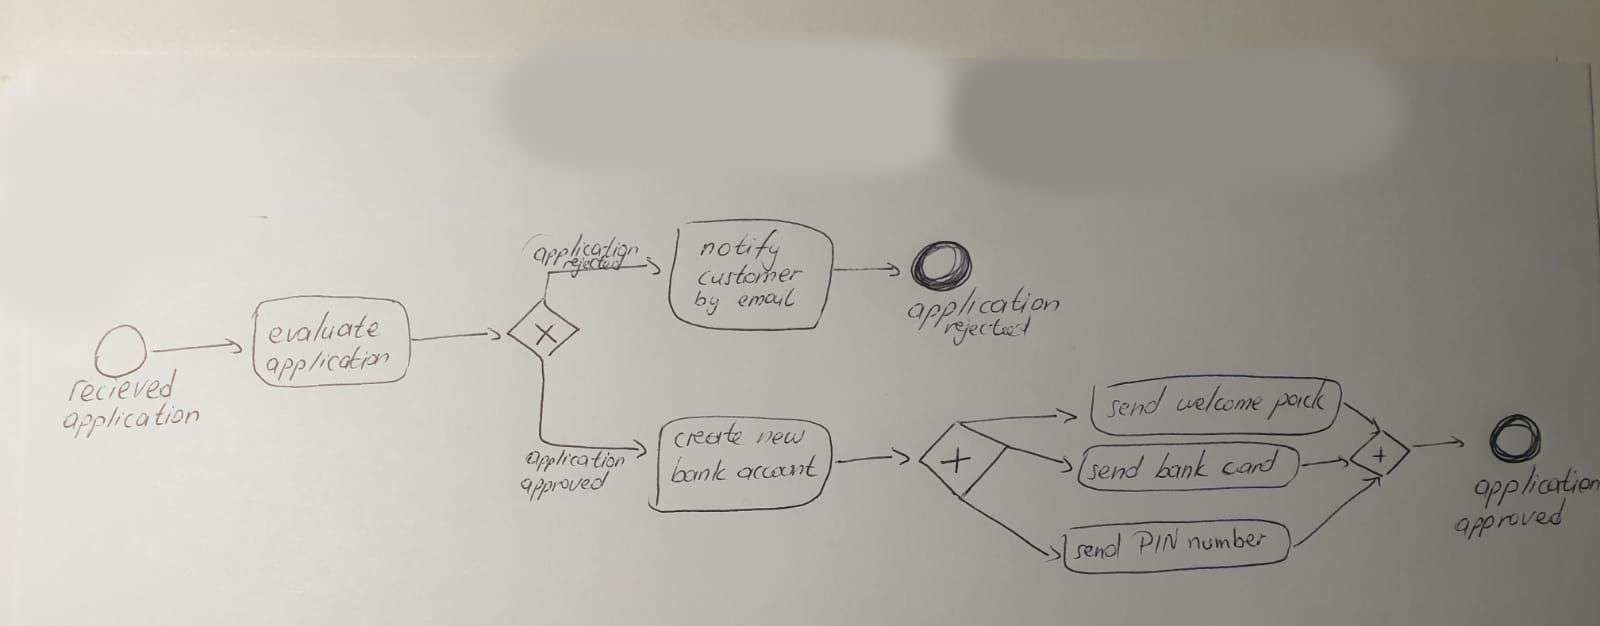PIN: (1128, 520, 1184, 560)
account: (738, 455, 818, 484)
application: (54, 401, 219, 446), (1468, 460, 1599, 508), (262, 345, 400, 382), (903, 292, 1064, 321), (520, 449, 634, 475), (530, 241, 644, 261)
approved: (1448, 503, 1573, 552), (519, 473, 615, 500)
bank: (1154, 450, 1219, 483), (670, 458, 734, 486)
by: (688, 288, 731, 319)
card: (1223, 448, 1279, 481)
create: (667, 421, 754, 451)
customer: (697, 262, 807, 293)
email: (736, 287, 802, 320)
evaluate: (265, 311, 388, 353)
new: (752, 422, 808, 455)
notify: (697, 223, 787, 267)
number: (1183, 521, 1273, 563)
pack: (1262, 371, 1340, 426)
recieved: (66, 371, 191, 406)
rejected: (942, 315, 1035, 345), (554, 260, 628, 275)
send: (1099, 385, 1173, 424), (1086, 451, 1152, 490), (1069, 533, 1127, 565)
welcome: (1172, 384, 1269, 419)
